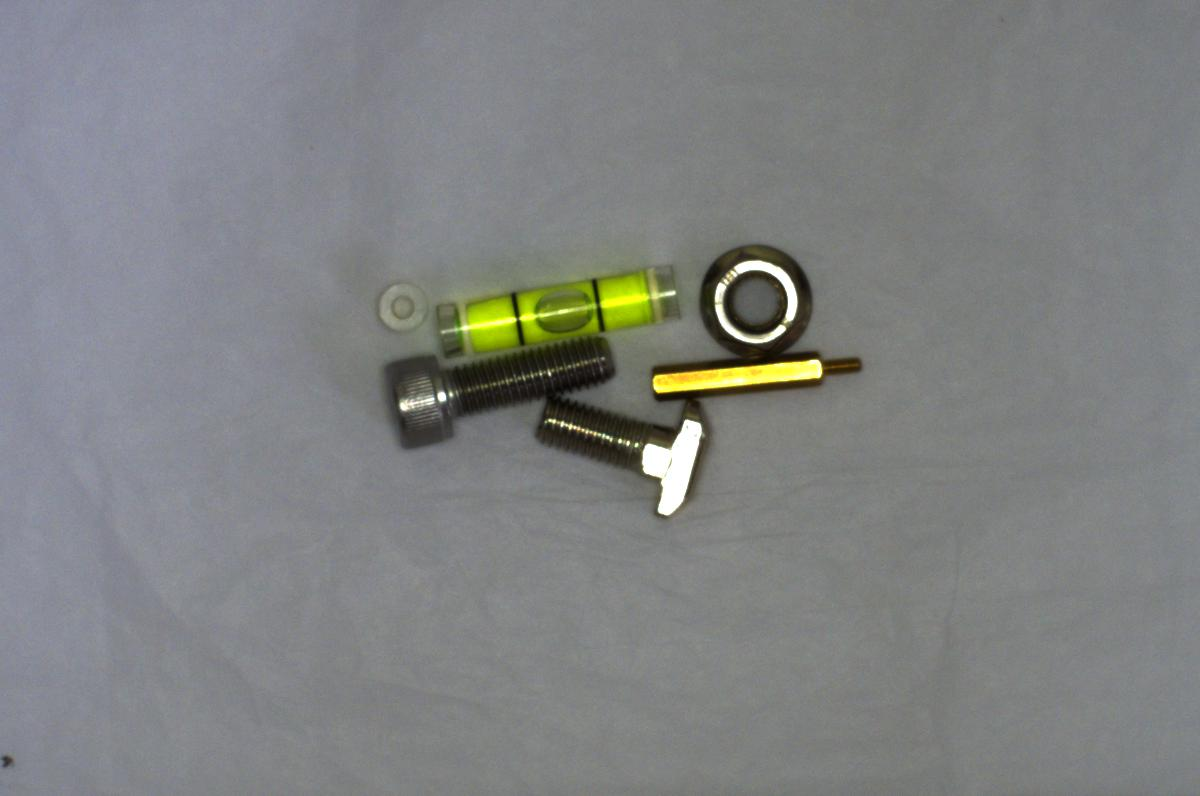Flange nut: (687, 236, 819, 356)
Hexagon pillar: (650, 345, 867, 401)
Hexagon screw: (361, 332, 623, 453)
Horizontal bubble: (424, 265, 683, 353)
Plastic cushion pillar: (367, 274, 434, 336)
T-shaped screw: (527, 385, 716, 524)
